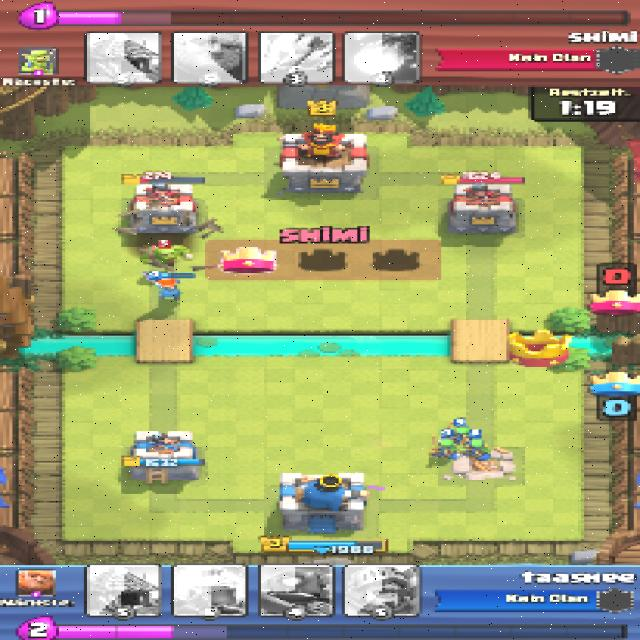Enemy-SpearGoblin: (460, 439, 498, 461), (428, 436, 463, 459), (447, 422, 472, 443)
Player-GoblinCage: (140, 244, 193, 268)
Player-Valkyrie: (144, 271, 186, 301)
